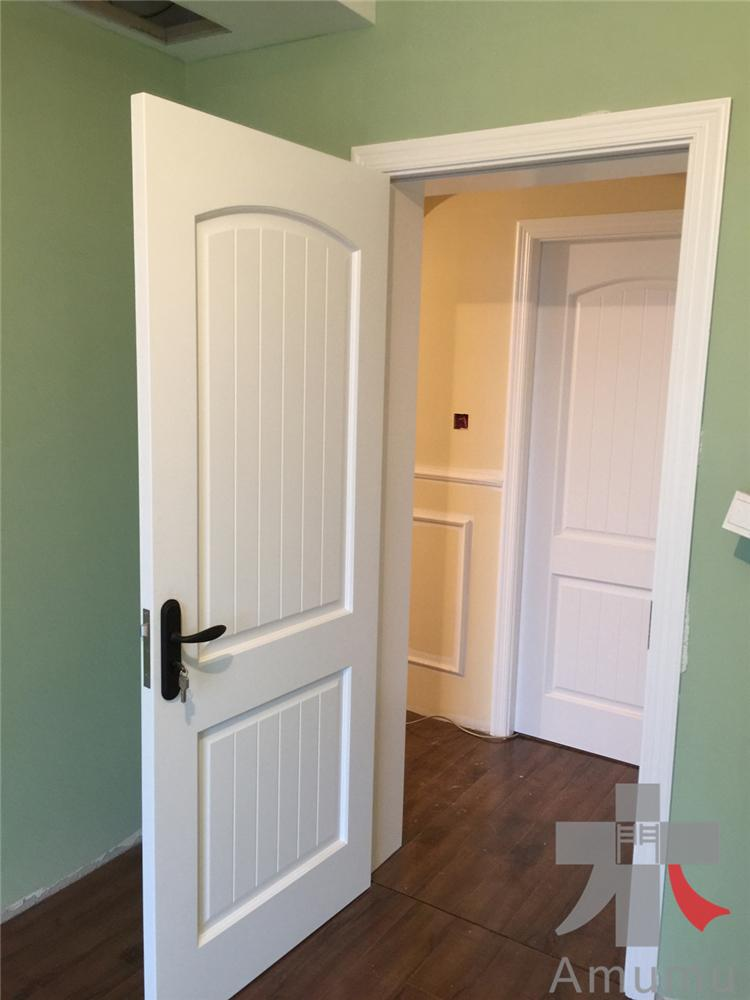door: (138, 122, 387, 934)
